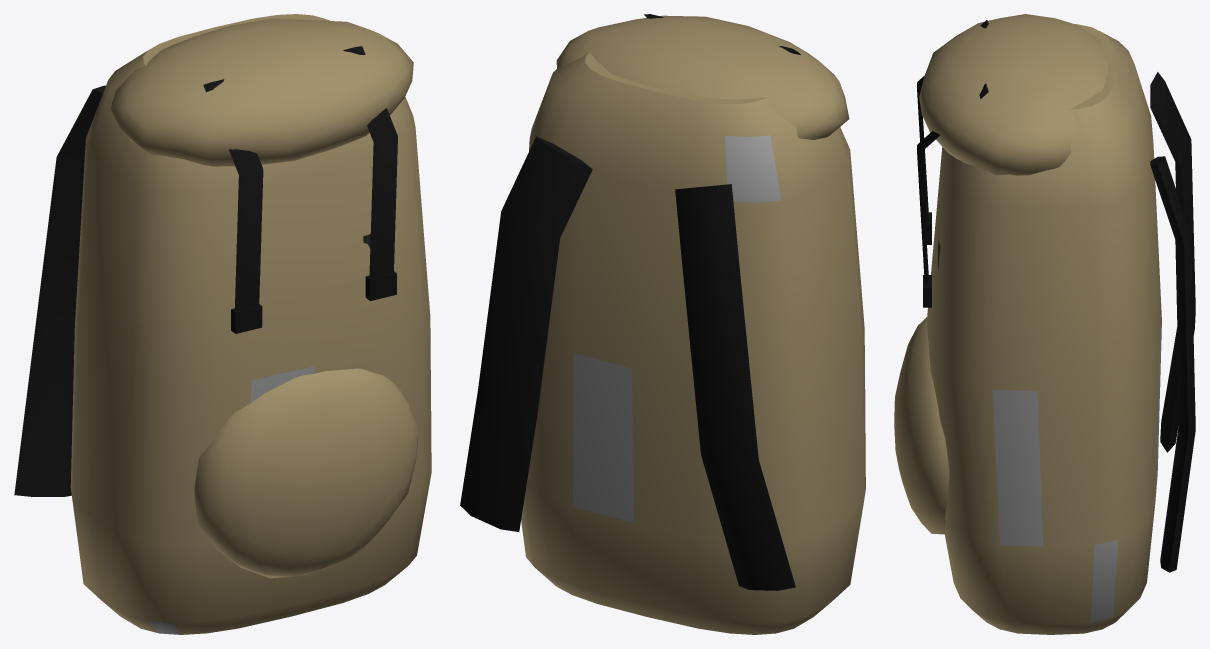
The model's file is backpack_torn.glb.
The picture shows the model from 3 angles, left to right: view 1: azimuth 30°, elevation 25°; view 2: azimuth 150°, elevation 25°; view 3: azimuth 270°, elevation 25°; orthographic projection. The views are drawn at different scales.
Visible parts, largest first — view 1: backpack_torn; view 2: backpack_torn; view 3: backpack_torn.
Part boxes in pixels (x1,y1,x2,y2): backpack_torn: (14,14,431,634); backpack_torn: (460,14,865,634); backpack_torn: (894,14,1195,634).
Size of the model in its own units: 0.3386 by 0.52 by 0.2688.
